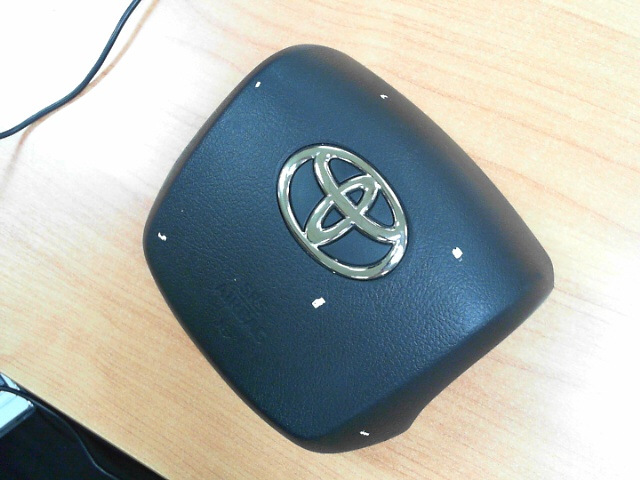Airbag: (451, 247, 465, 262), (311, 296, 326, 309), (157, 231, 167, 241), (359, 430, 370, 437), (379, 94, 389, 100), (255, 82, 261, 87)
